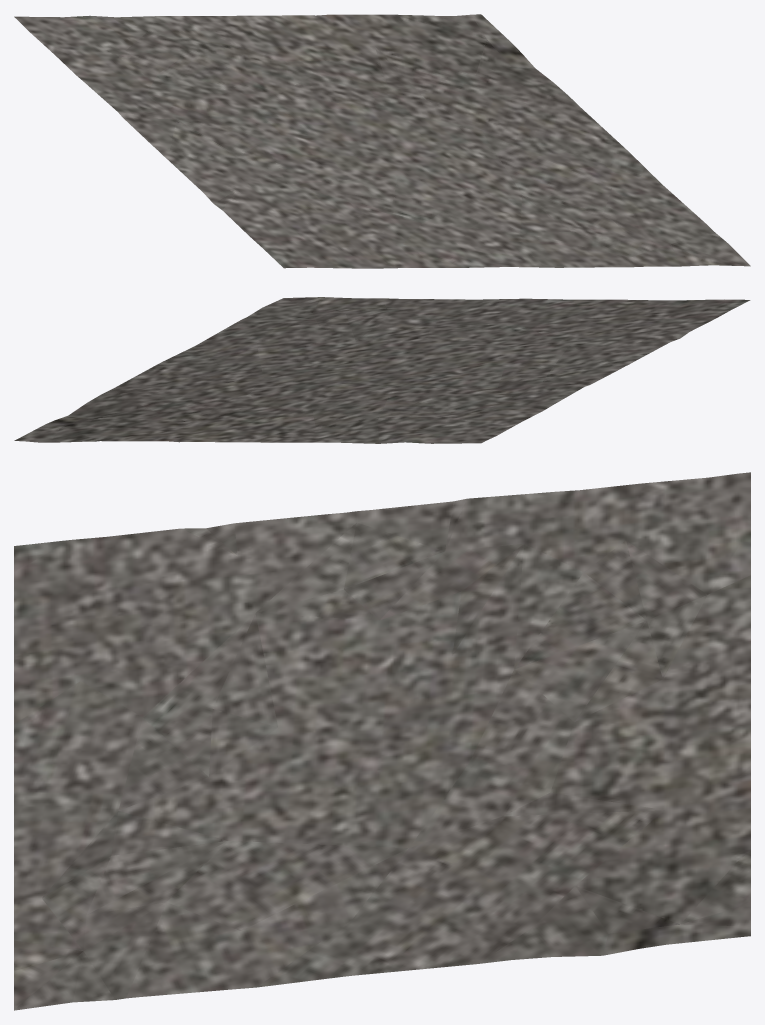
The picture shows the model from 3 angles, top to bottom: view 1: azimuth 30°, elevation 25°; view 2: azimuth 150°, elevation 25°; view 3: azimuth 270°, elevation 25°; orthographic projection. The views are drawn at different scales.
Bounding box in the file's own units: 0.8374 × 0.2844 × 0.8374.
Materials: 3 (3 with a texture image).
